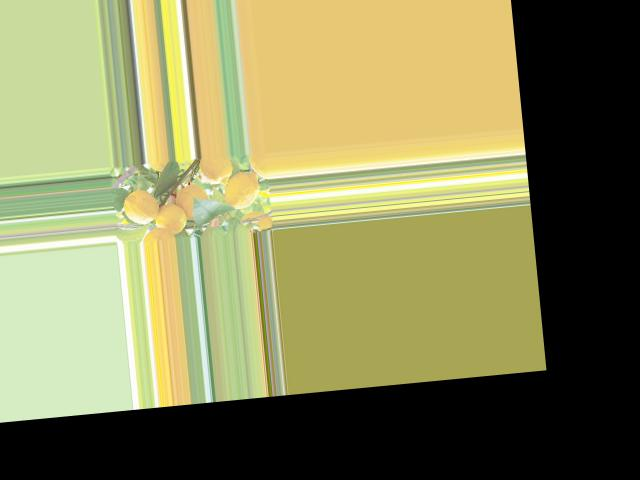lemon: (119, 190, 163, 229)
